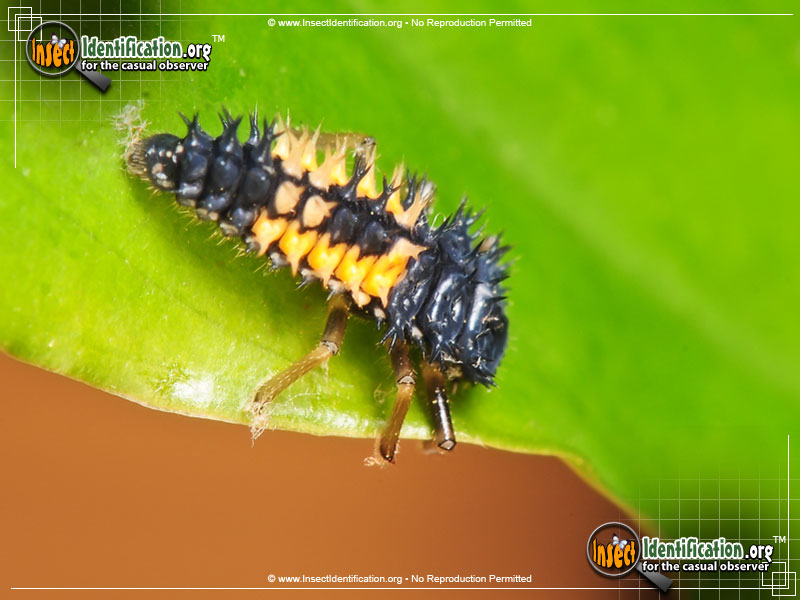Asian Multicolored Lady Beetle: (107, 112, 521, 468)
